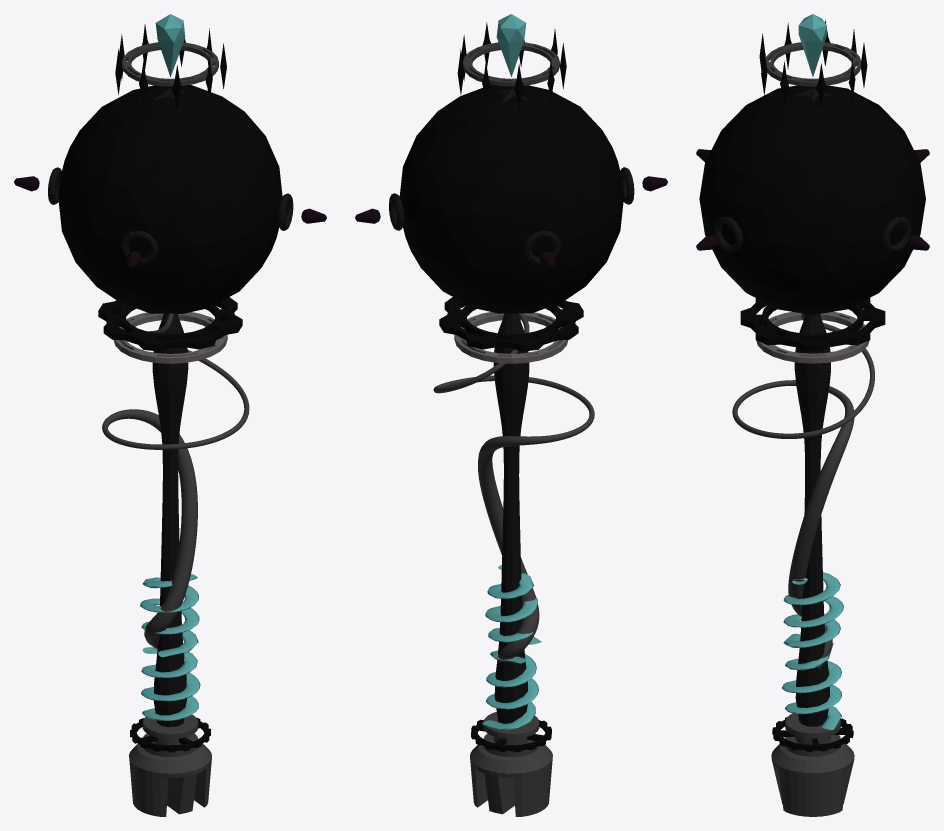
Rendered from switch_deactivate.fbx.
The picture shows the model from 3 angles, left to right: view 1: azimuth 30°, elevation 25°; view 2: azimuth 150°, elevation 25°; view 3: azimuth 270°, elevation 25°; orthographic projection.
Parts seen in each view (by area): view 1: 1_head_main_ball_1, 2_middle_main_stick_1, 3_bottom_cylinder2_1, 2_middle_curve1_1, 2_middle_curve1, 1_middle_gear1_1, 1_middle_gear2_1, 1_head_gear1_1, 1_head_ring_1, 1_head__dia_1, 1_head_point_1, 3_bottom_gear1_1 (+1 smaller); view 2: 1_head_main_ball_1, 2_middle_main_stick_1, 3_bottom_cylinder2_1, 2_middle_curve1_1, 1_middle_gear1_1, 2_middle_curve1, 1_middle_gear2_1, 1_head_gear1_1, 1_head_ring_1, 1_head__dia_1, 1_head_point_1, 3_bottom_gear1_1 (+1 smaller); view 3: 1_head_main_ball_1, 2_middle_main_stick_1, 3_bottom_cylinder2_1, 2_middle_curve1_1, 2_middle_curve1, 1_middle_gear1_1, 1_middle_gear2_1, 1_head_gear1_1, 1_head__dia_1, 1_head_ring_1, 1_head_point_1, 3_bottom_gear1_1 (+1 smaller).
Boxes of the visible parts, x1=… form: 1_head_main_ball_1: x1=58, y1=85, x2=282, y2=313; 2_middle_main_stick_1: x1=152, y1=313, x2=188, y2=727; 3_bottom_cylinder2_1: x1=129, y1=714, x2=211, y2=816; 2_middle_curve1_1: x1=102, y1=313, x2=249, y2=648; 2_middle_curve1: x1=140, y1=574, x2=200, y2=720; 1_middle_gear1_1: x1=98, y1=297, x2=242, y2=351; 1_middle_gear2_1: x1=113, y1=312, x2=227, y2=363; 1_head_gear1_1: x1=122, y1=42, x2=218, y2=86; 1_head_ring_1: x1=48, y1=167, x2=293, y2=264; 1_head__dia_1: x1=115, y1=24, x2=226, y2=111; 1_head_point_1: x1=155, y1=14, x2=185, y2=77; 3_bottom_gear1_1: x1=130, y1=717, x2=210, y2=752; 1_head_main_ball_1: x1=399, y1=84, x2=624, y2=313; 2_middle_main_stick_1: x1=493, y1=313, x2=529, y2=723; 3_bottom_cylinder2_1: x1=470, y1=712, x2=552, y2=816; 2_middle_curve1_1: x1=433, y1=313, x2=594, y2=663; 1_middle_gear1_1: x1=439, y1=297, x2=583, y2=351; 2_middle_curve1: x1=482, y1=565, x2=541, y2=730; 1_middle_gear2_1: x1=454, y1=312, x2=568, y2=363; 1_head_gear1_1: x1=463, y1=42, x2=559, y2=86; 1_head_ring_1: x1=389, y1=167, x2=634, y2=264; 1_head__dia_1: x1=457, y1=22, x2=566, y2=110; 1_head_point_1: x1=496, y1=14, x2=526, y2=77; 3_bottom_gear1_1: x1=471, y1=717, x2=551, y2=752; 1_head_main_ball_1: x1=699, y1=85, x2=925, y2=314; 2_middle_main_stick_1: x1=794, y1=314, x2=830, y2=726; 3_bottom_cylinder2_1: x1=771, y1=713, x2=854, y2=816; 2_middle_curve1_1: x1=732, y1=313, x2=874, y2=668; 2_middle_curve1: x1=782, y1=572, x2=843, y2=729; 1_middle_gear1_1: x1=740, y1=298, x2=885, y2=351; 1_middle_gear2_1: x1=756, y1=311, x2=869, y2=363; 1_head_gear1_1: x1=765, y1=42, x2=861, y2=86; 1_head__dia_1: x1=759, y1=19, x2=867, y2=109; 1_head_ring_1: x1=713, y1=216, x2=911, y2=252; 1_head_point_1: x1=798, y1=14, x2=826, y2=76; 3_bottom_gear1_1: x1=772, y1=717, x2=853, y2=751.
Bounding box in the file's own units: 229 × 867 × 233.
